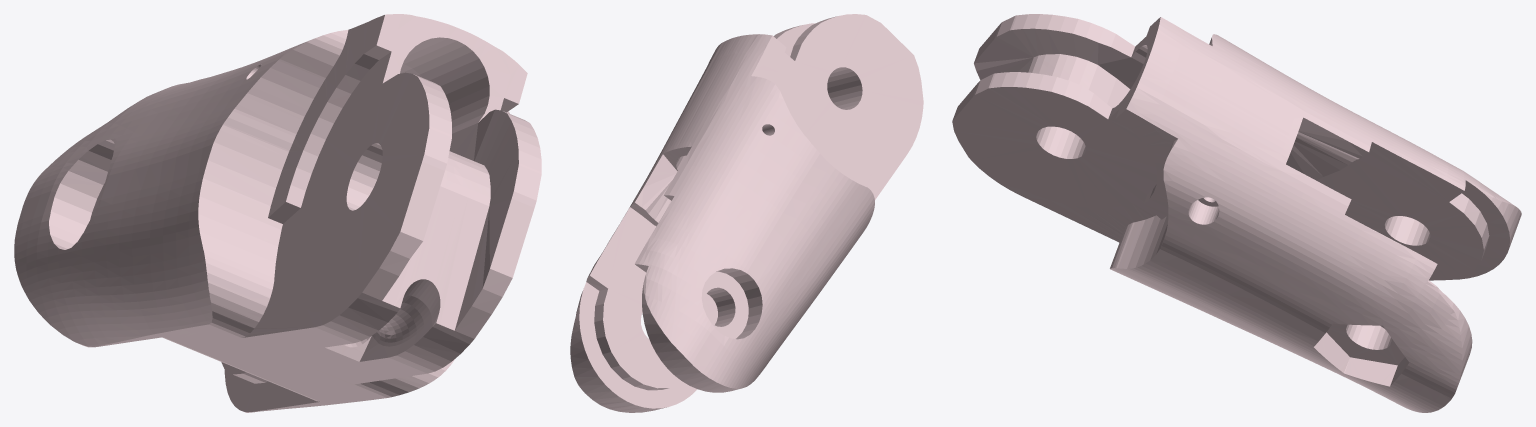
The model's file is i02_leftHand_indexMid_visual.obj.full.glb.
The picture shows the model from 3 angles, left to right: view 1: azimuth 30°, elevation 25°; view 2: azimuth 150°, elevation 25°; view 3: azimuth 270°, elevation 25°; orthographic projection. The views are drawn at different scales.
Bounding box in the file's own units: 0.1771 × 0.2842 × 0.3928.
